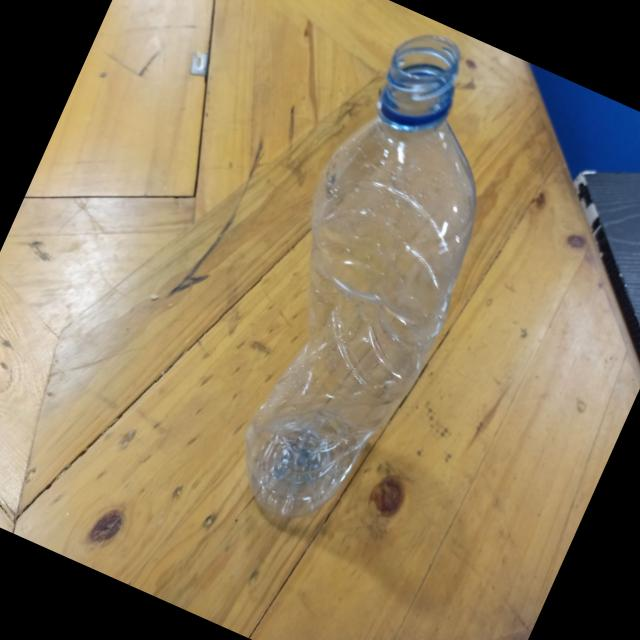BotolPlastik: (186, 14, 552, 548)
